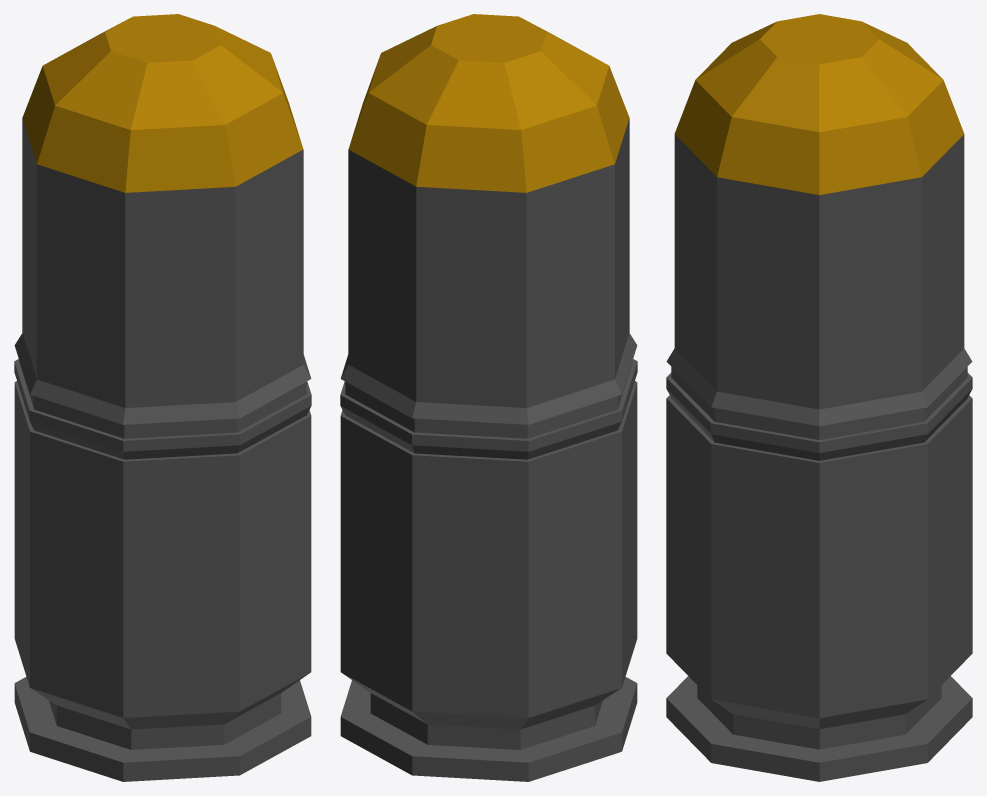
File: granade.fbx
3 views of the same model, side by side, from view 1: azimuth 30°, elevation 25°; view 2: azimuth 150°, elevation 25°; view 3: azimuth 270°, elevation 25° (orthographic).
Visible parts, largest first — view 1: m397; view 2: m397; view 3: m397.
Boxes of the visible parts, x1,y1,x2,y2 form: m397: (14,14,311,781); m397: (340,14,637,781); m397: (666,14,972,781).
Bounding box in the file's own units: 40.07 × 97.79 × 40.07.
